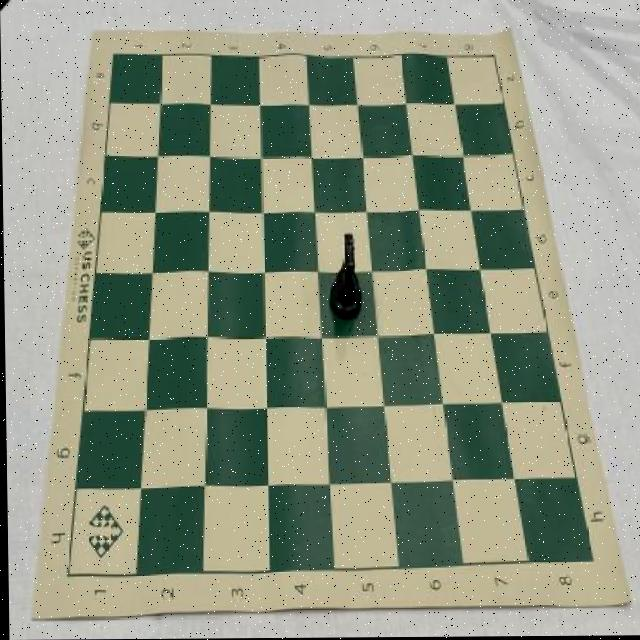black-king: (327, 233, 361, 323)
